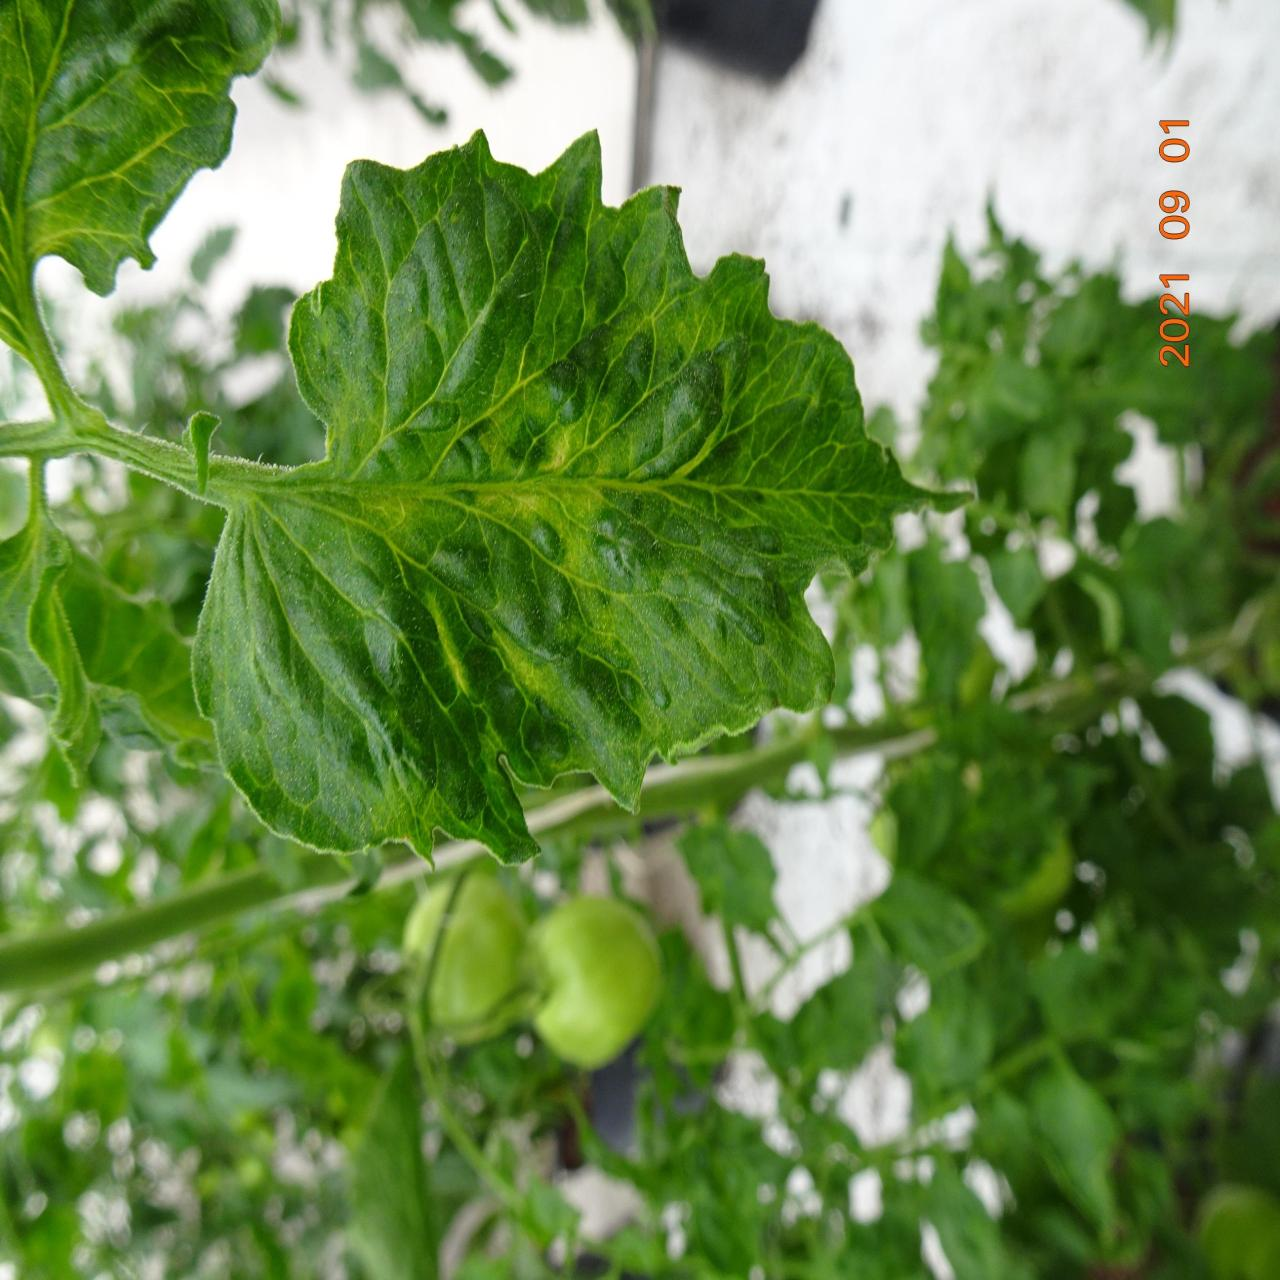T_L_R: (195, 138, 926, 862), (1, 1, 281, 294)
T_S_R: (1, 404, 200, 493)
